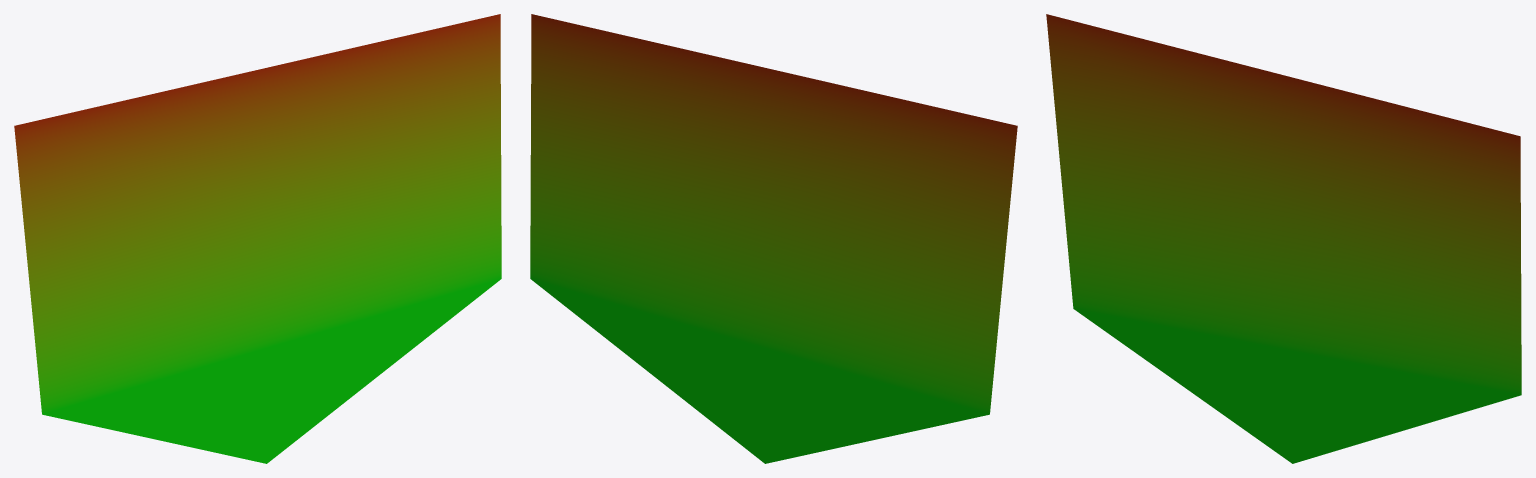
Rendered from Aloe Vera_LOD4_Var3_ve4tbbrha.fbx.
3 renders of one model, left to right at view 1: azimuth 30°, elevation 25°; view 2: azimuth 150°, elevation 25°; view 3: azimuth 330°, elevation 25°, orthographic. The views are drawn at different scales.
Parts seen in each view (by area): view 1: _uipg_Var3_LOD4; view 2: _uipg_Var3_LOD4; view 3: _uipg_Var3_LOD4.
Part boxes in pixels (x1,y1,x2,y2): _uipg_Var3_LOD4: (14, 14, 501, 463); _uipg_Var3_LOD4: (530, 14, 1017, 463); _uipg_Var3_LOD4: (1046, 14, 1521, 463).
Bounding box in the file's own units: 55.5 × 43.48 × 8.62e-06.
